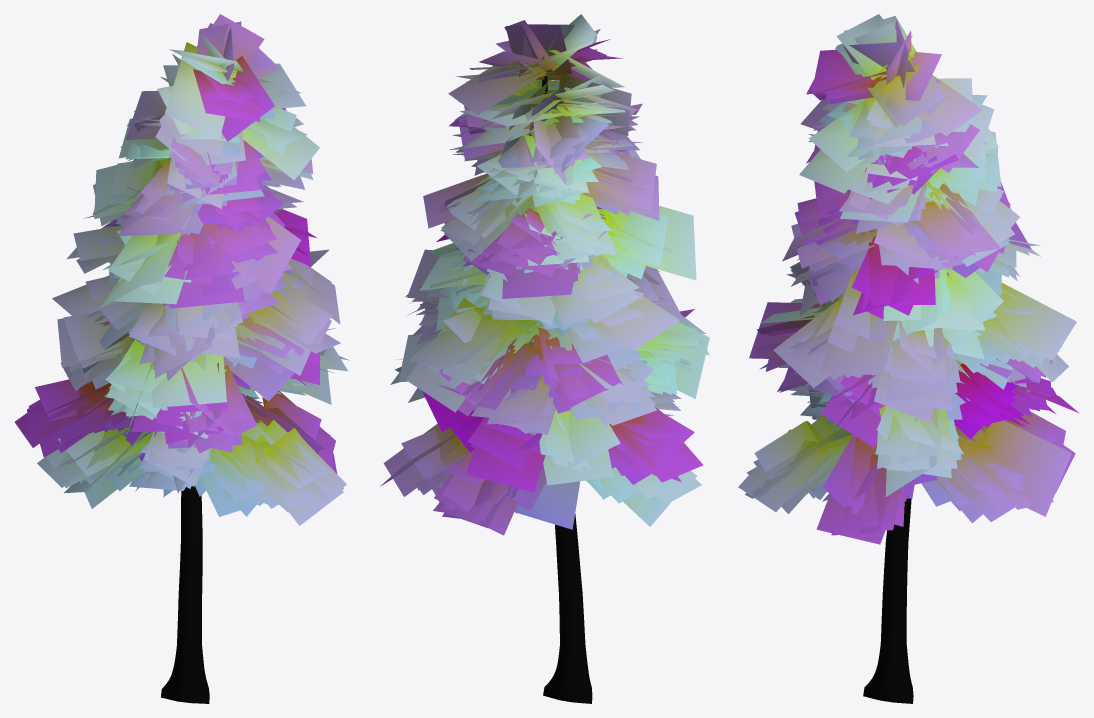
The model's file is tree_cedar_d.glb.
3 renders of one model, left to right at view 1: azimuth 30°, elevation 25°; view 2: azimuth 150°, elevation 25°; view 3: azimuth 270°, elevation 25°, orthographic. The views are drawn at different scales.
Visible parts, largest first — view 1: tree_cedar_d; view 2: tree_cedar_d; view 3: tree_cedar_d.
Boxes of the visible parts, <box> form: tree_cedar_d: <box>14,14,349,703</box>; tree_cedar_d: <box>380,14,709,703</box>; tree_cedar_d: <box>738,14,1079,703</box>.
Size of the model in its own units: 12.32 by 25.82 by 11.68.
